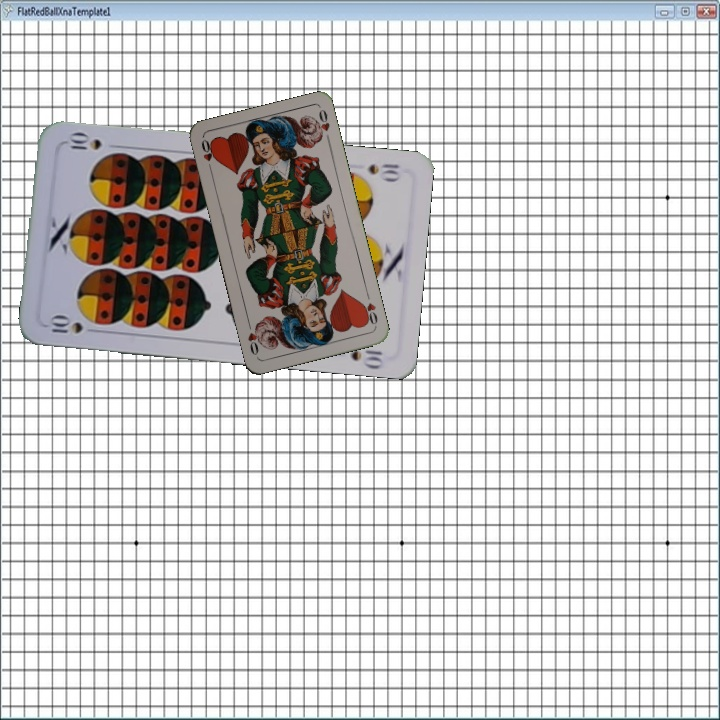HO: (358, 289, 380, 327), (197, 135, 217, 175)
S10: (43, 312, 102, 336), (363, 159, 405, 184)
